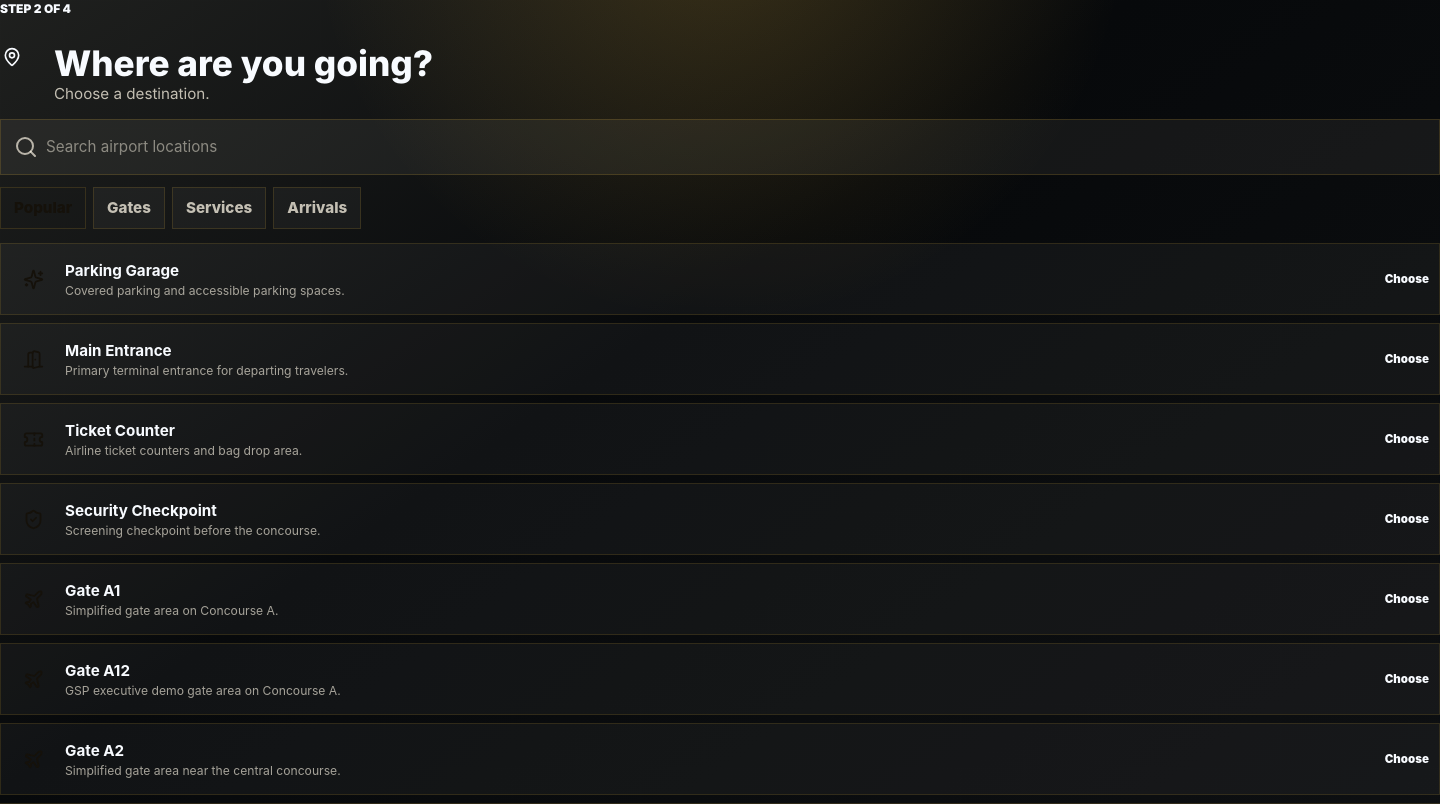
Test: MobileTravelerServicesScreen › opens from Services while keeping direct destination search available
Click the button "Services": (219, 208) [172,187,266,229]
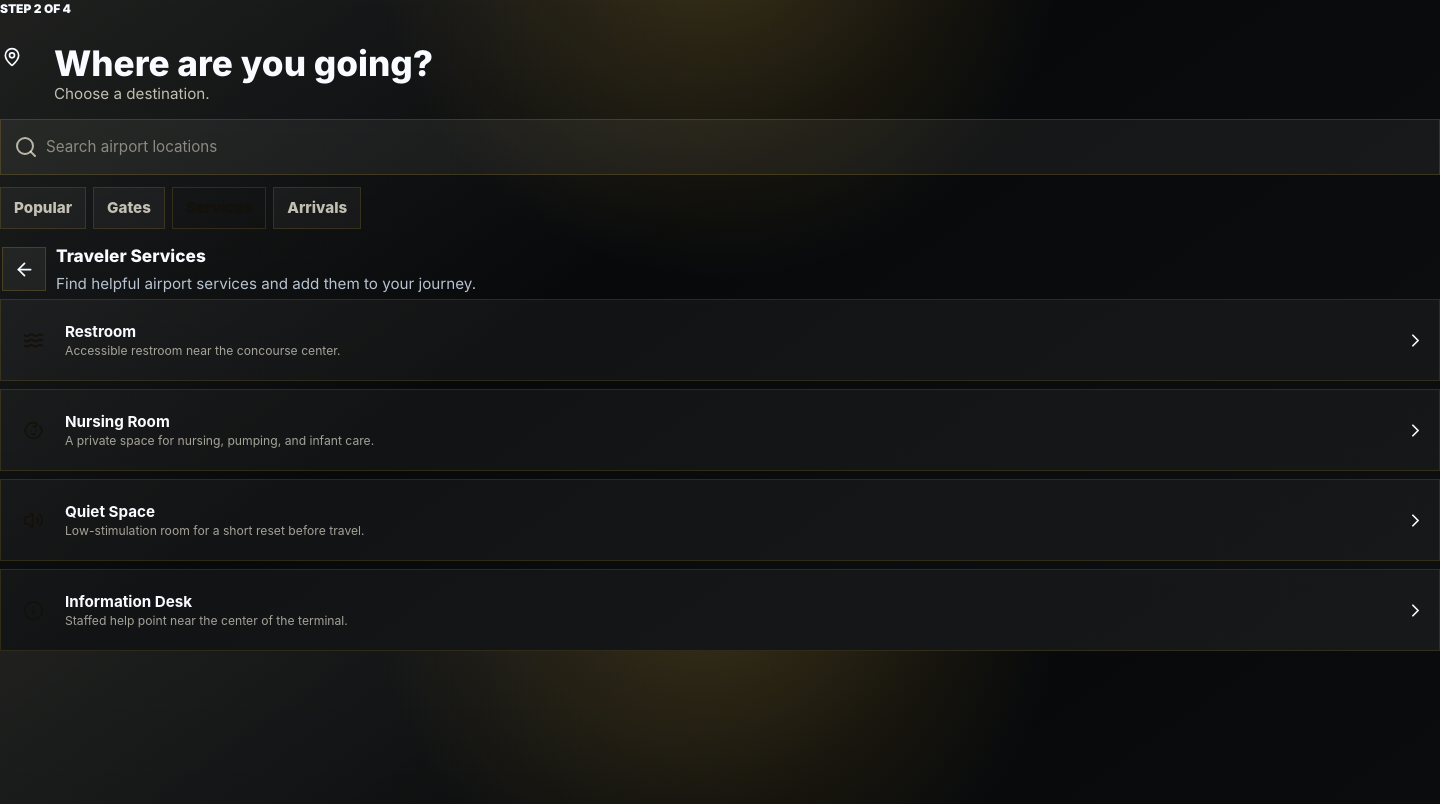
Expected: the heading "Traveler Services" is shown, [56,246,206,267]
In the search field named "Search locations": (736, 147) [46,125,1426,169], type "Quiet Space"
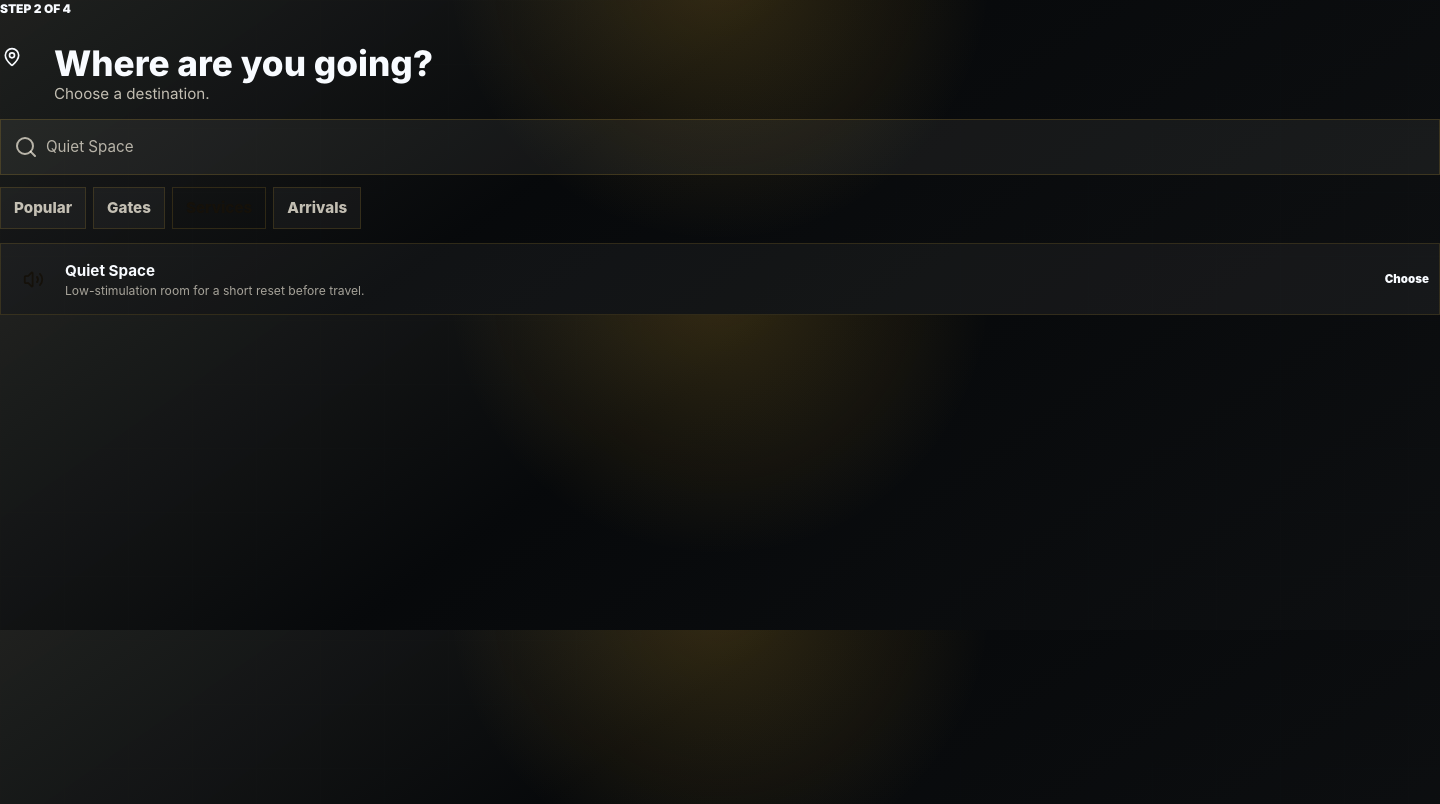
Expected: the button "Quiet Space" is shown, [0,243,1439,315]
Expected: the heading "Traveler Services" is gone
